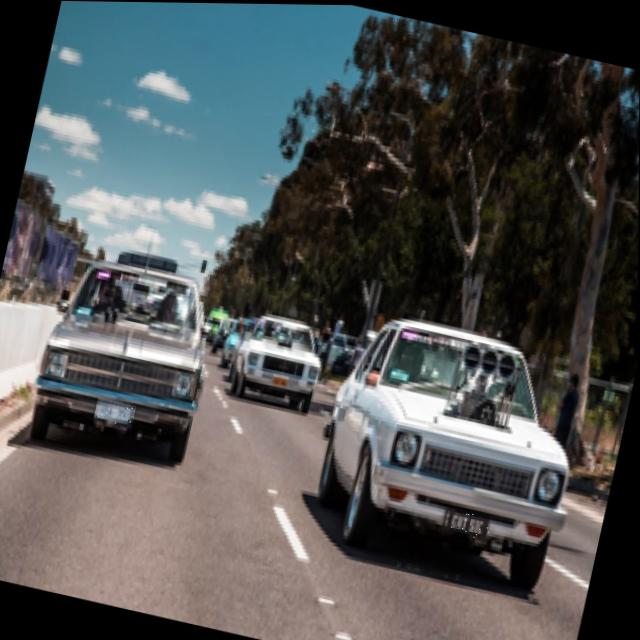license_plate: (441, 505, 493, 543), (93, 398, 136, 431)
